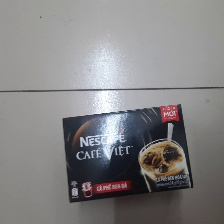CF Viet: (57, 101, 194, 203)
